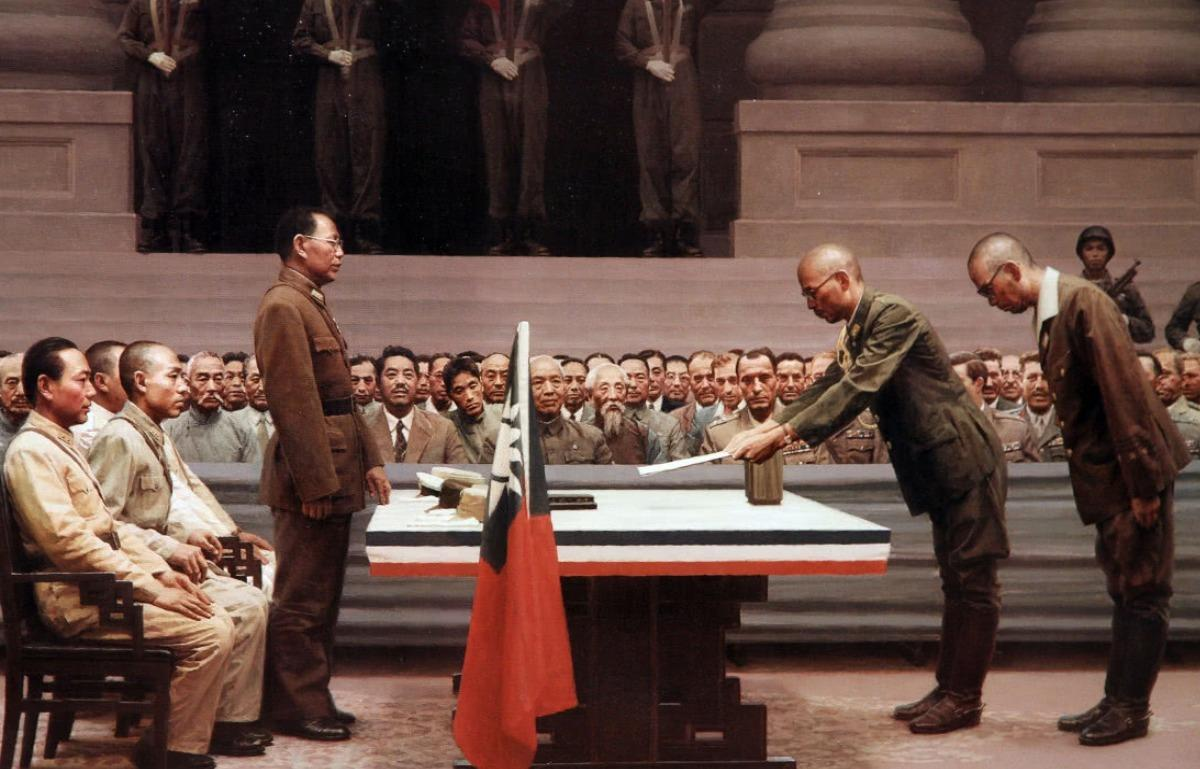bending: (977, 229, 1200, 749), (782, 230, 988, 747), (4, 347, 227, 767)
up: (245, 198, 396, 746)
